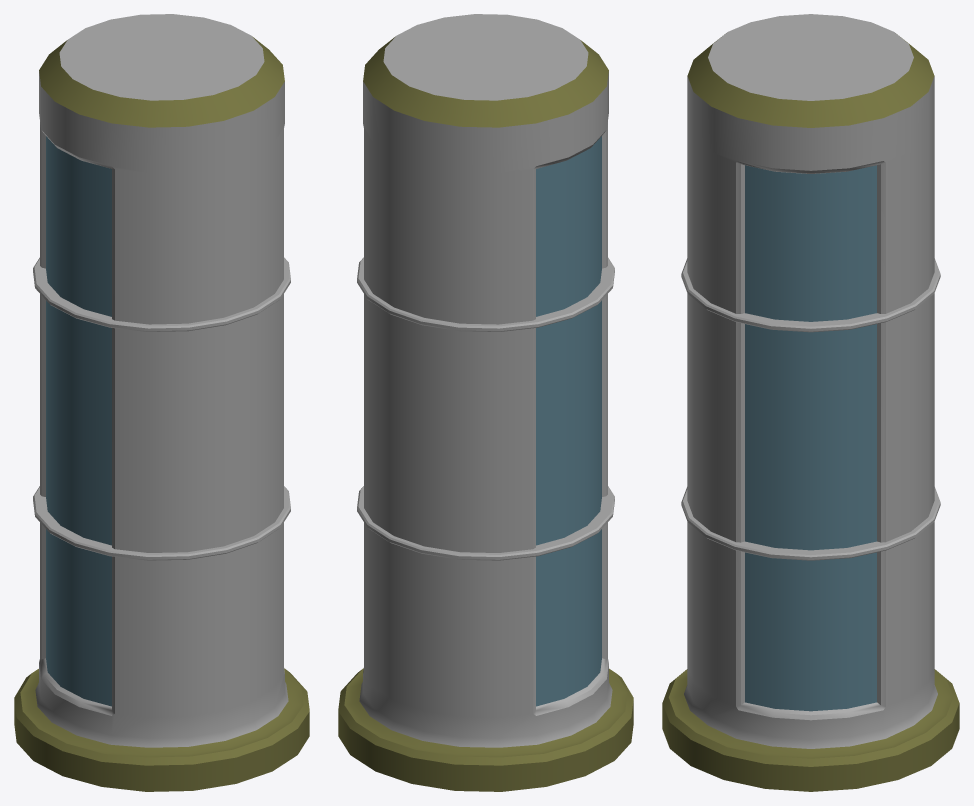
File: ReservoirVaisseau_Low.fbx
3 views of the same model, side by side, from view 1: azimuth 30°, elevation 25°; view 2: azimuth 150°, elevation 25°; view 3: azimuth 270°, elevation 25° (orthographic).
Visible parts, largest first — view 1: ReservoirVaisseau, JaugeurB, JaugeurH; view 2: ReservoirVaisseau, JaugeurB, JaugeurH; view 3: ReservoirVaisseau, JaugeurB, JaugeurH.
Boxes of the visible parts, left/top/right/bottom form: ReservoirVaisseau: left=14, top=14, right=309, bottom=791; JaugeurB: left=33, top=486, right=290, bottom=560; JaugeurH: left=33, top=257, right=290, bottom=331; ReservoirVaisseau: left=338, top=14, right=633, bottom=791; JaugeurB: left=357, top=486, right=614, bottom=560; JaugeurH: left=357, top=257, right=614, bottom=331; ReservoirVaisseau: left=662, top=14, right=959, bottom=791; JaugeurB: left=681, top=487, right=940, bottom=560; JaugeurH: left=681, top=258, right=940, bottom=332.
Bounding box in the file's own units: 240 × 600 × 240.
